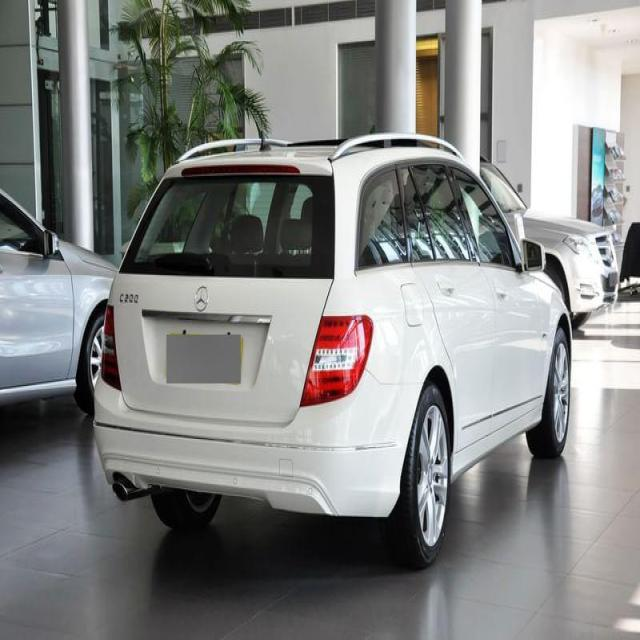back_glass: (118, 169, 336, 282)
back_left_side_light: (100, 300, 125, 394)
back_right_side_light: (300, 312, 374, 410)
door: (400, 164, 501, 444)
front_right_side_door: (450, 154, 542, 426)
front_right_side_mirror: (519, 232, 547, 282)
rear_bumper: (91, 369, 423, 518)
wheel: (400, 382, 450, 566), (530, 328, 570, 457), (152, 487, 225, 530)
